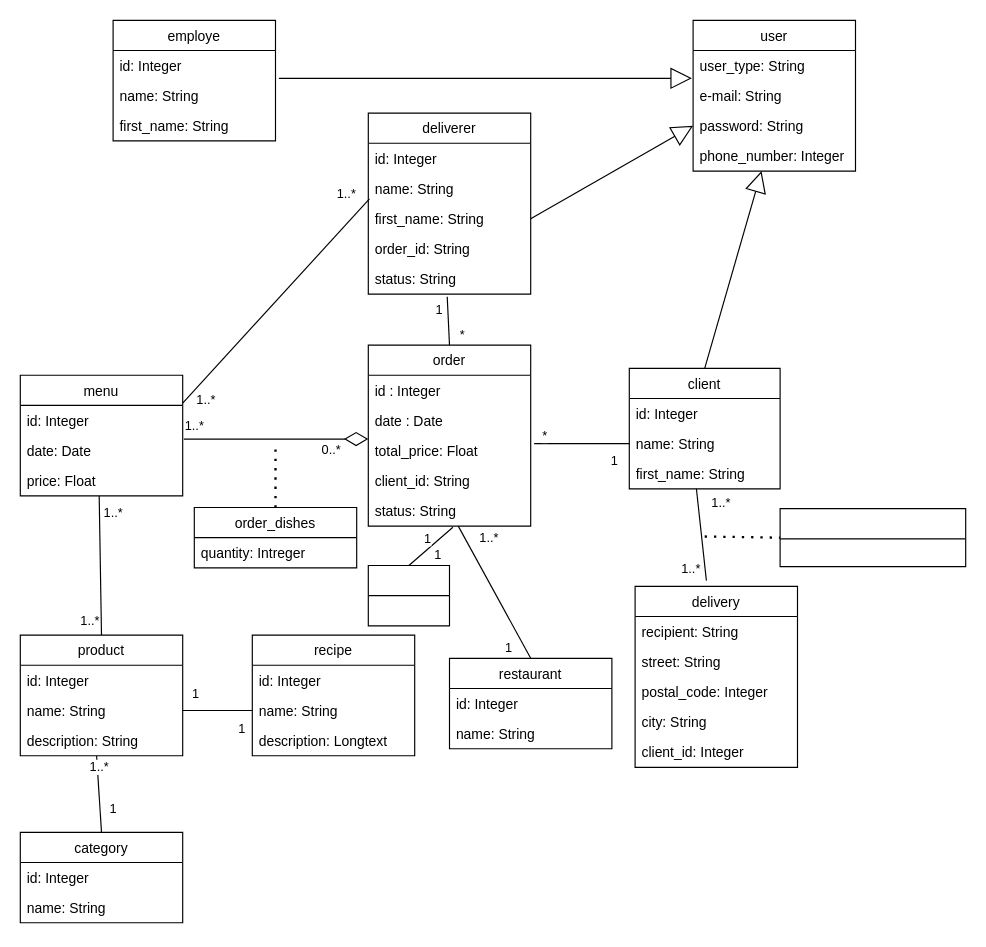
The diagram is 986 pixels wide and 947 high, and some of its shapes have lost their labels. Here are the shapes that lost their labels. From the top down, the centre of each, then its label:
the point at 872,537: client_has_delivery_adress
the point at 408,595: payment
